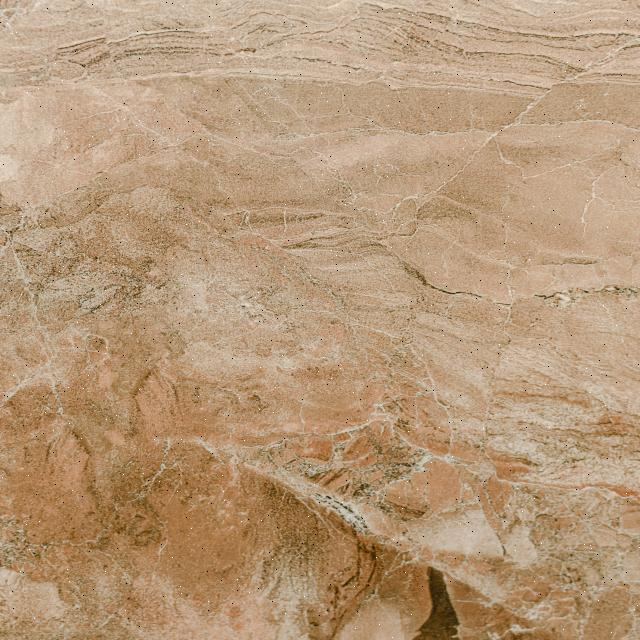Sedimentary: (2, 2, 640, 638)
